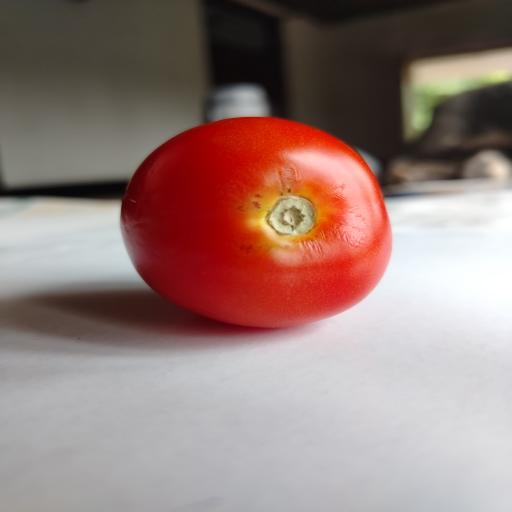ripe: (122, 117, 391, 327)
